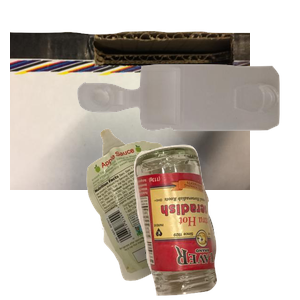cardboard: (10, 29, 250, 209)
glass: (131, 142, 300, 300)
plastic: (75, 62, 300, 186)
trash: (84, 126, 291, 300)
